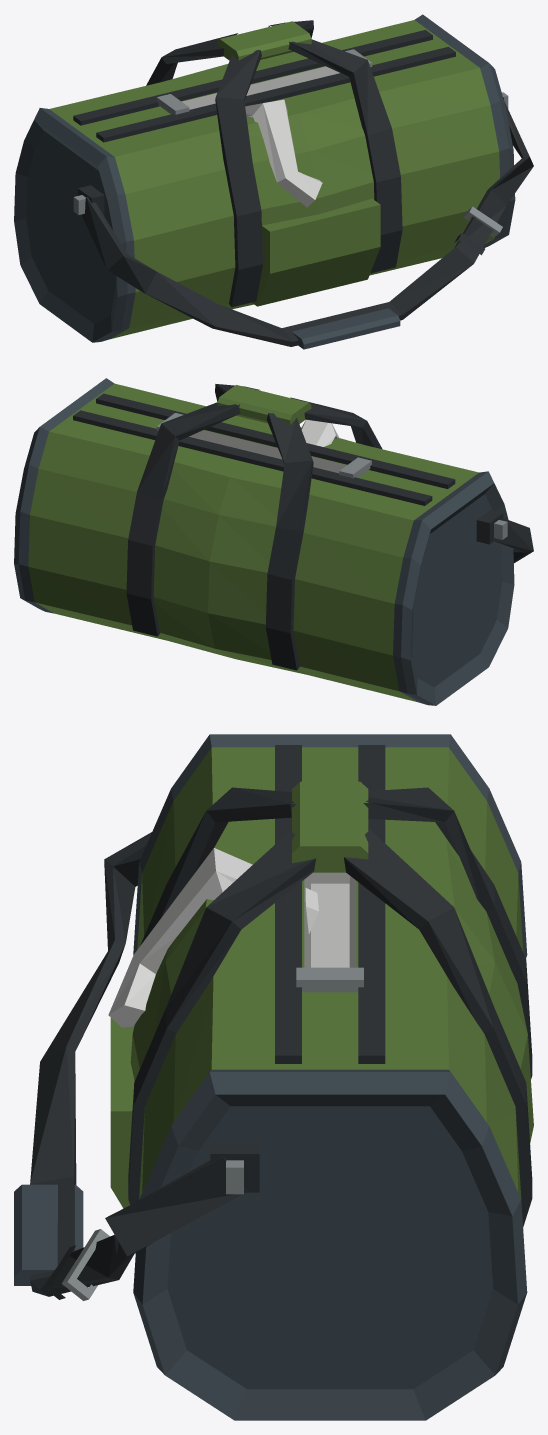
Rendered from kit-bag-7d617f.glb.
The picture shows the model from 3 angles, top to bottom: view 1: azimuth 30°, elevation 25°; view 2: azimuth 150°, elevation 25°; view 3: azimuth 270°, elevation 25°; orthographic projection. The views are drawn at different scales.
Parts seen in each view (by area): view 1: bag-body, strap-mesh, spill-sock-mesh; view 2: bag-body, strap-mesh, spill-sock-mesh; view 3: bag-body, strap-mesh, spill-sock-mesh.
Boxes of the visible parts, bbox=[...] form: bag-body: bbox=[14, 14, 515, 342]; strap-mesh: bbox=[81, 100, 533, 349]; spill-sock-mesh: bbox=[245, 99, 322, 207]; bag-body: bbox=[14, 378, 514, 705]; strap-mesh: bbox=[493, 517, 533, 563]; spill-sock-mesh: bbox=[301, 419, 339, 446]; bag-body: bbox=[110, 734, 533, 1420]; strap-mesh: bbox=[14, 832, 246, 1300]; spill-sock-mesh: bbox=[108, 848, 318, 1027].
Size of the model in its own units: 0.8 by 0.4248 by 0.464.
